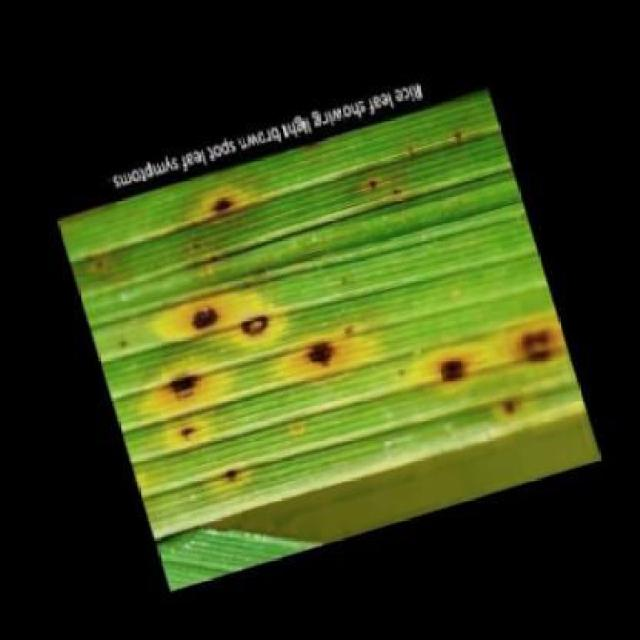Leaf_Blast: (498, 307, 570, 379), (290, 325, 356, 390), (417, 341, 483, 402), (224, 295, 282, 354), (186, 182, 252, 233), (153, 358, 207, 414), (180, 292, 231, 345), (204, 454, 258, 498), (486, 384, 531, 431), (168, 415, 205, 454)
